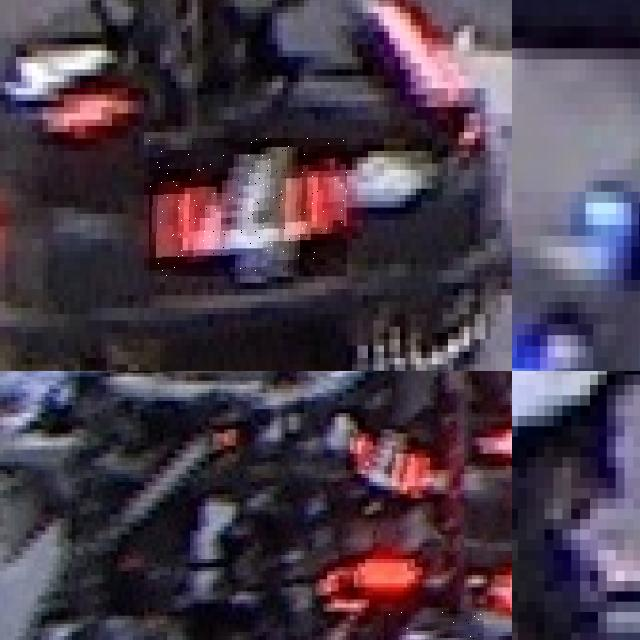R1: (384, 611, 483, 640)
R4: (149, 138, 347, 276)
